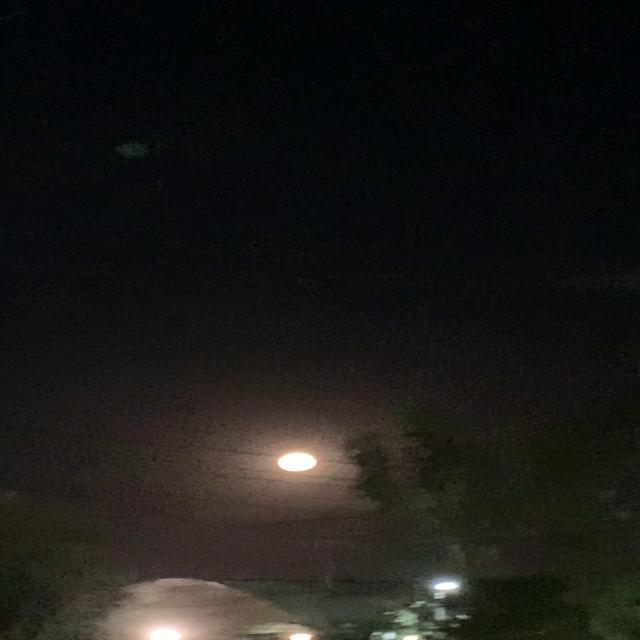moon: (283, 450, 336, 476)
